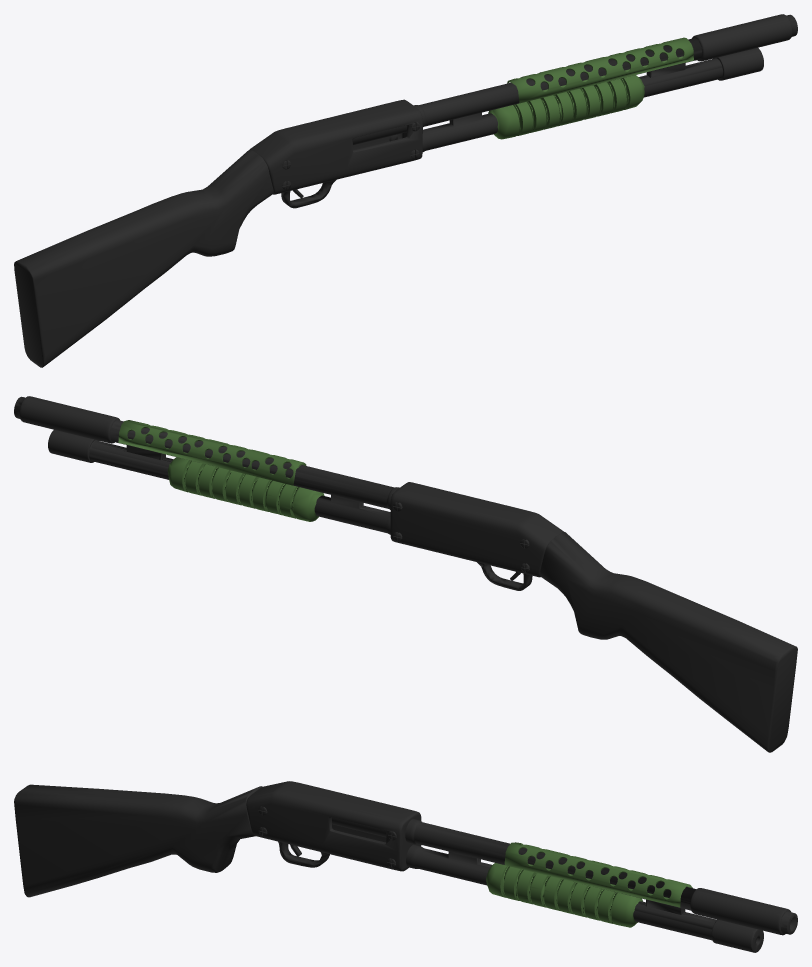
Rendered from gun_shotgun.glb.
The picture shows the model from 3 angles, top to bottom: view 1: azimuth 30°, elevation 25°; view 2: azimuth 150°, elevation 25°; view 3: azimuth 330°, elevation 25°; orthographic projection.
Parts seen in each view (by area): view 1: Cube.001_Material_0, Cube_Material.001_0, Cylinder.001_Material.015_0; view 2: Cube.001_Material_0, Cube_Material.001_0, Cylinder.001_Material.015_0; view 3: Cube_Material.001_0, Cube.001_Material_0, Cylinder.001_Material.015_0.
Part boxes in pixels (x1,y1,x2,y2): Cube.001_Material_0: (14, 149, 273, 367); Cube_Material.001_0: (249, 14, 797, 208); Cylinder.001_Material.015_0: (488, 37, 693, 139); Cube.001_Material_0: (540, 532, 797, 752); Cube_Material.001_0: (14, 396, 563, 590); Cylinder.001_Material.015_0: (118, 420, 324, 521); Cube_Material.001_0: (246, 781, 797, 952); Cube.001_Material_0: (14, 784, 262, 897); Cylinder.001_Material.015_0: (486, 842, 692, 927).
Size of the model in its own units: 35.53 by 7.49 by 1.86.
